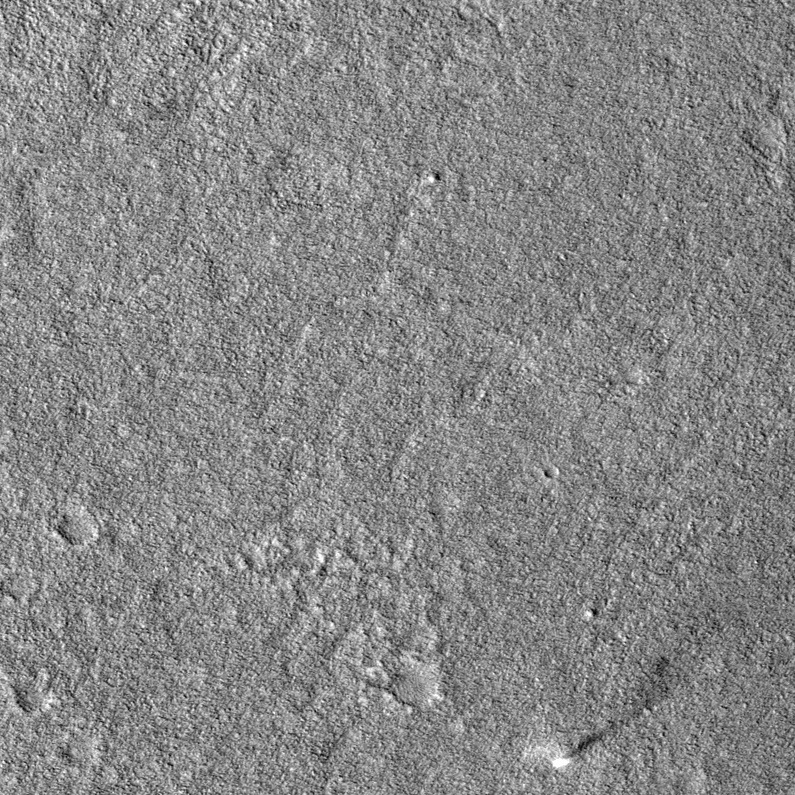dust_devil: (525, 652, 681, 770)
